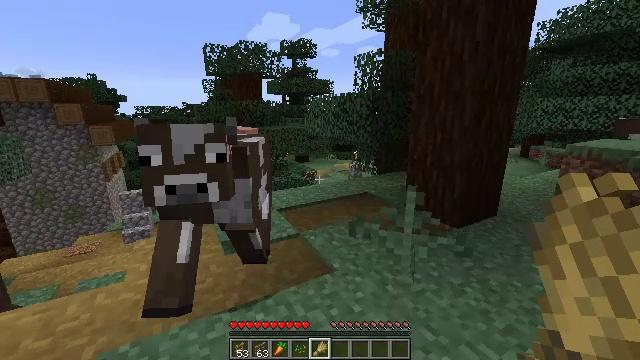cow: (134, 124, 271, 316)
